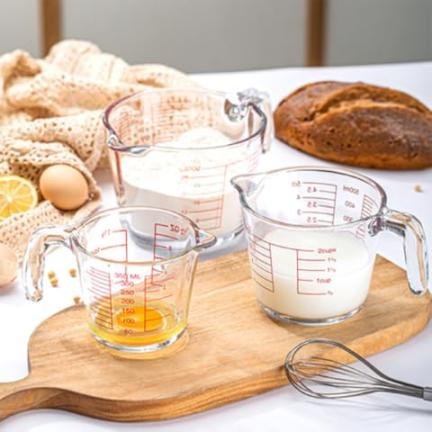container: (104, 88, 263, 255), (229, 168, 386, 327), (63, 206, 214, 358)
fluid: (123, 177, 254, 239), (251, 256, 372, 319), (90, 321, 184, 348)
fluid-surface: (118, 127, 260, 195), (252, 229, 371, 277), (94, 295, 179, 336)
